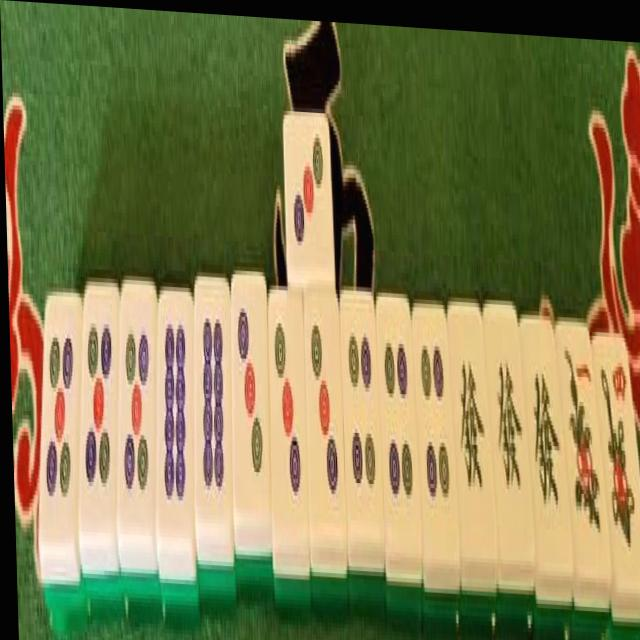fa: (489, 321, 529, 559), (531, 333, 570, 573), (455, 318, 493, 553)
ff1: (563, 324, 604, 572)
ff4: (599, 340, 640, 578)
t3: (304, 292, 344, 547), (228, 285, 268, 532), (270, 293, 308, 545), (287, 115, 331, 279)
t4: (377, 308, 416, 559), (343, 301, 380, 555), (417, 316, 455, 559)
t5: (78, 295, 120, 541), (119, 295, 161, 535), (39, 318, 79, 528)
t8: (155, 295, 197, 535), (195, 286, 233, 535)
